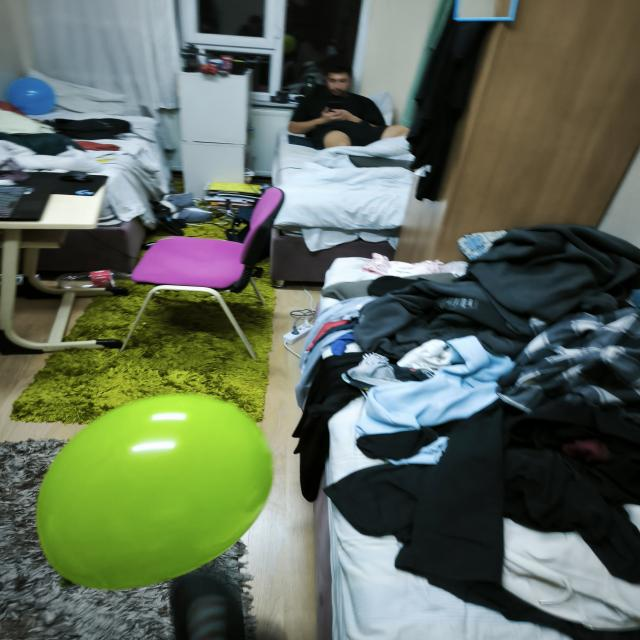balloon: (37, 395, 272, 589), (7, 78, 56, 115)
